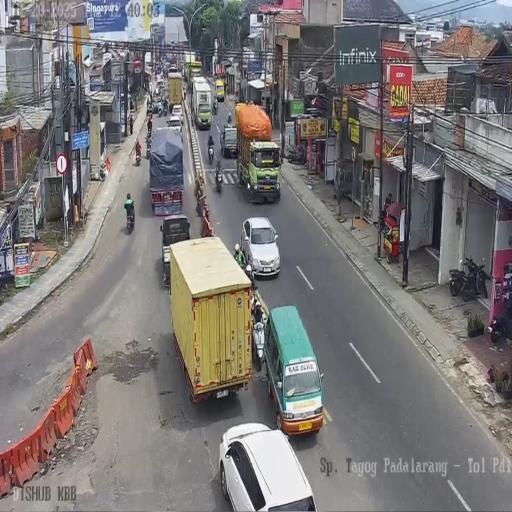car: (216, 422, 316, 510), (262, 303, 322, 434), (240, 216, 281, 279), (160, 215, 190, 283), (221, 125, 238, 159), (170, 104, 183, 123), (215, 78, 225, 102), (156, 73, 164, 89)
motorcycle: (461, 253, 488, 301), (489, 308, 510, 342), (285, 144, 306, 165), (215, 161, 223, 193), (126, 205, 134, 234), (208, 138, 214, 162), (135, 146, 141, 165), (162, 98, 168, 116), (146, 98, 152, 114), (146, 121, 152, 137), (146, 142, 151, 160), (213, 97, 218, 113), (227, 112, 232, 126), (158, 103, 162, 117)
truck: (167, 236, 255, 404), (236, 105, 281, 201), (149, 131, 185, 216), (186, 60, 202, 88)
